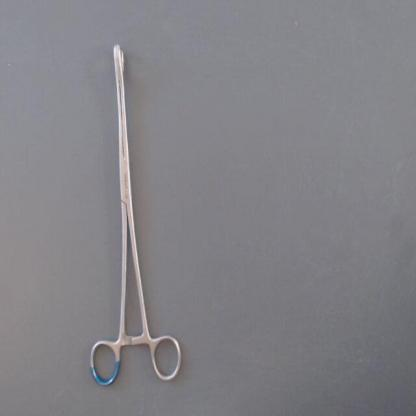Sponge Forceps: (84, 31, 190, 393)
